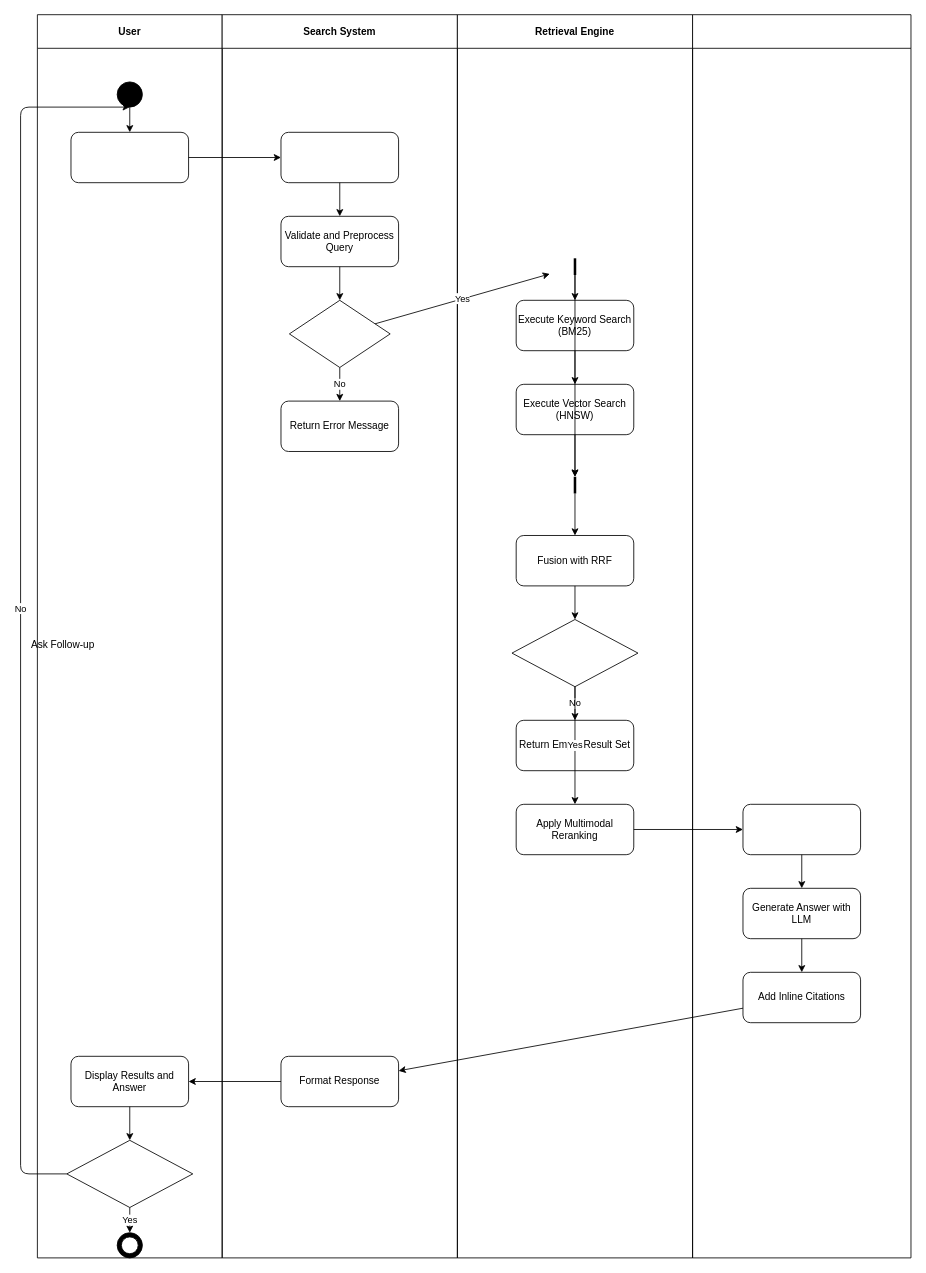
This 926x1273 diagram has some shape labels left out. The shapes that lost their labels are listed below. From the top down, each one's box as (x1, y1, x2, y2) in pixels, then its label:
(70, 131, 189, 183): Enter Search Query
(280, 131, 399, 183): Receive Query
(289, 299, 390, 368): Valid Query?
(511, 619, 638, 687): Top K Results > 0?
(692, 14, 911, 1258): RAG Service
(742, 803, 861, 855): Inject Context into Prompt
(66, 1139, 193, 1208): Satisfied with Answer?
